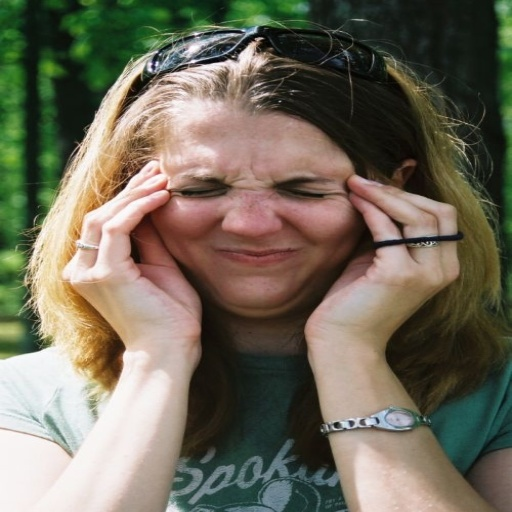hand: (53, 151, 216, 439), (304, 175, 463, 343)
